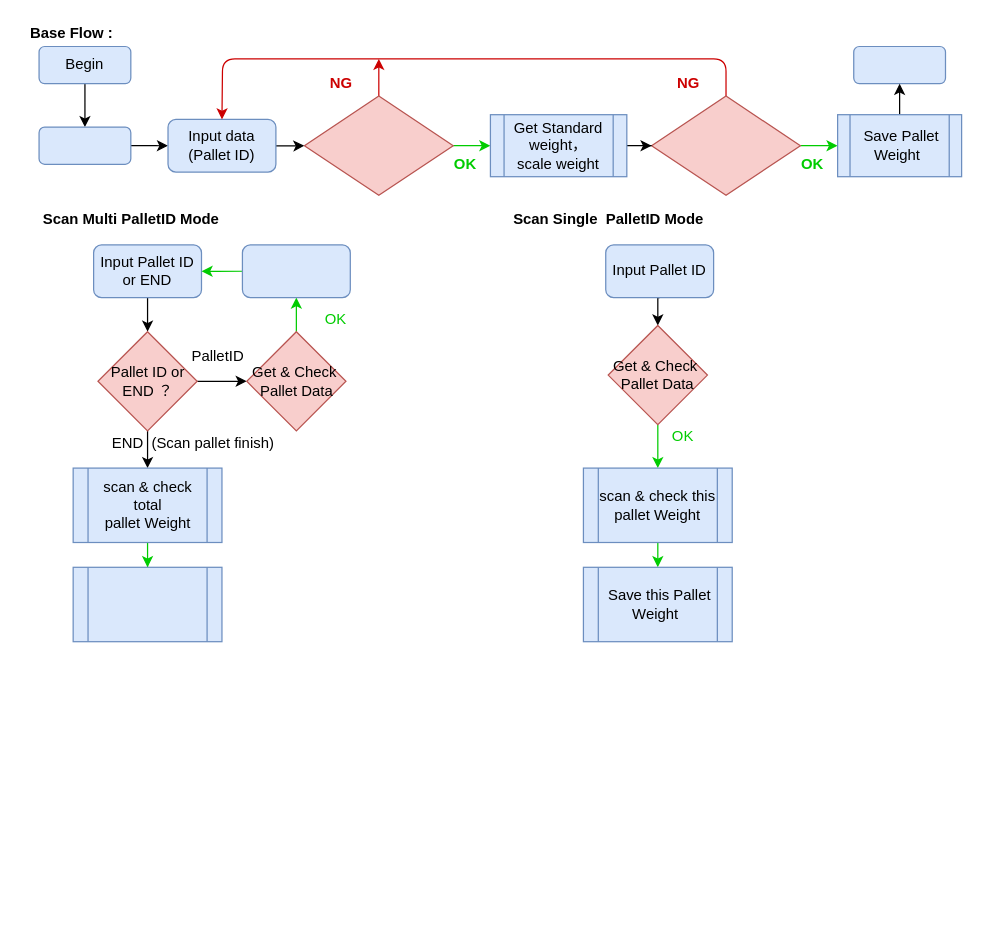
Some shapes in this 983 by 946 pixel diagram are drawn without their labels. The shapes that lost their labels are listed below. From the top down, each one's centre as x and y in pixels, then its label:
(899,64): End
(84,145): Login
(378,145): Get and Check Pallet Data
(725,145): Pallet weight In Standard weight range ?
(295,271): Add a Pallet
(147,604): Save each Pallet Weight
